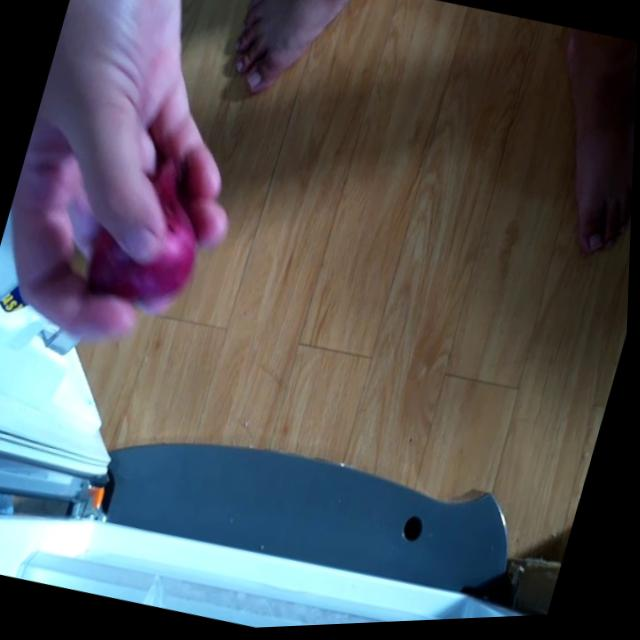onion: (72, 126, 233, 318)
